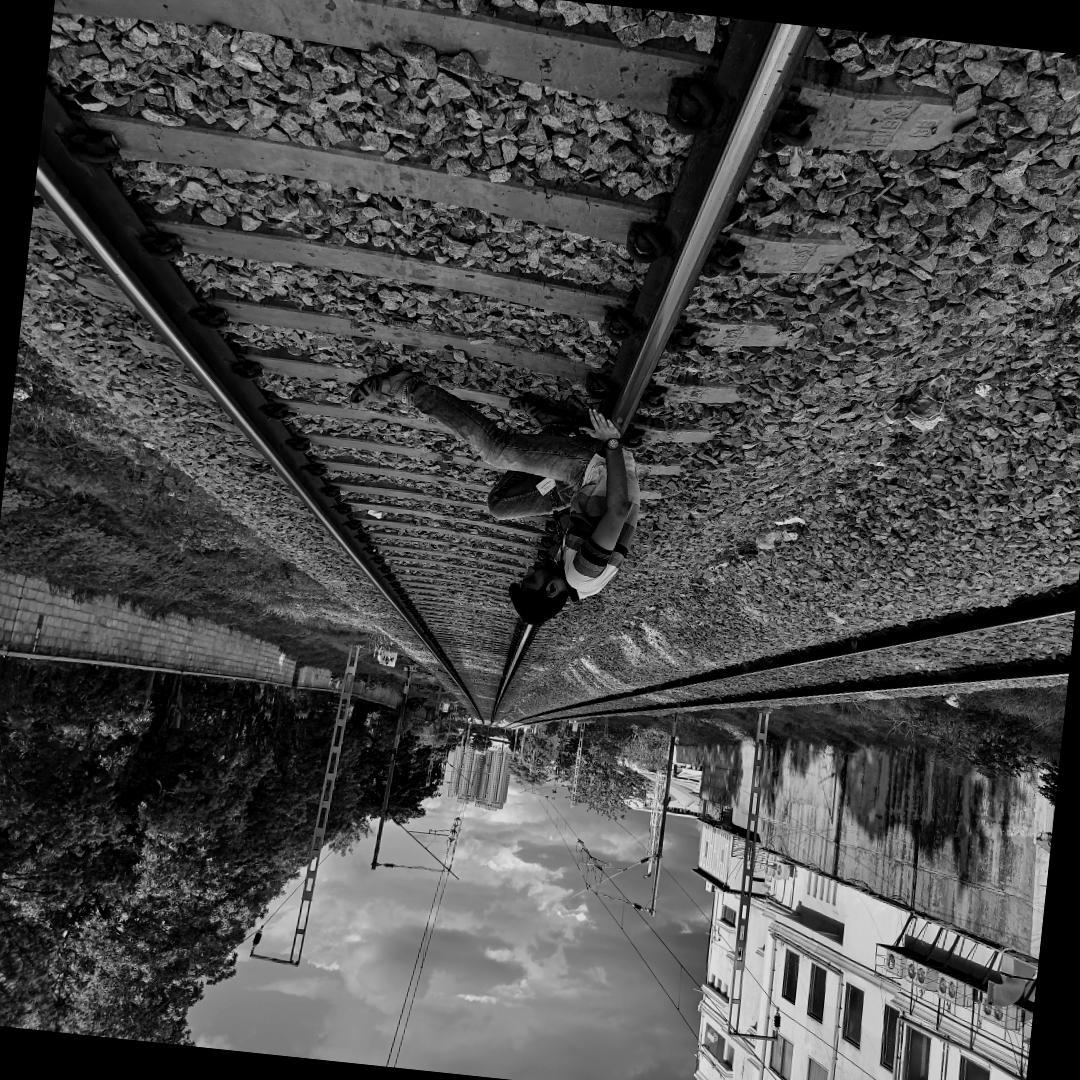sitting: (311, 345, 670, 646)
